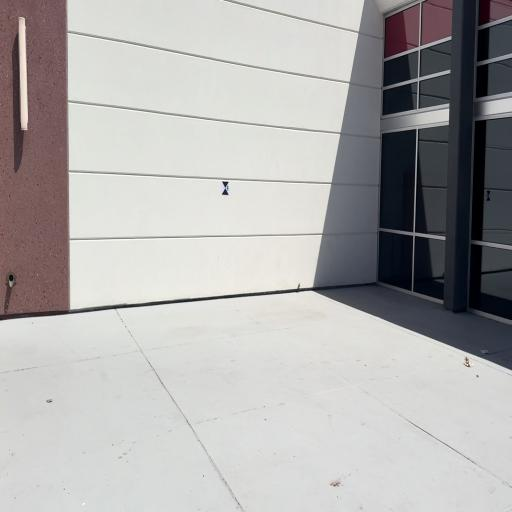target4: (221, 181, 229, 195)
